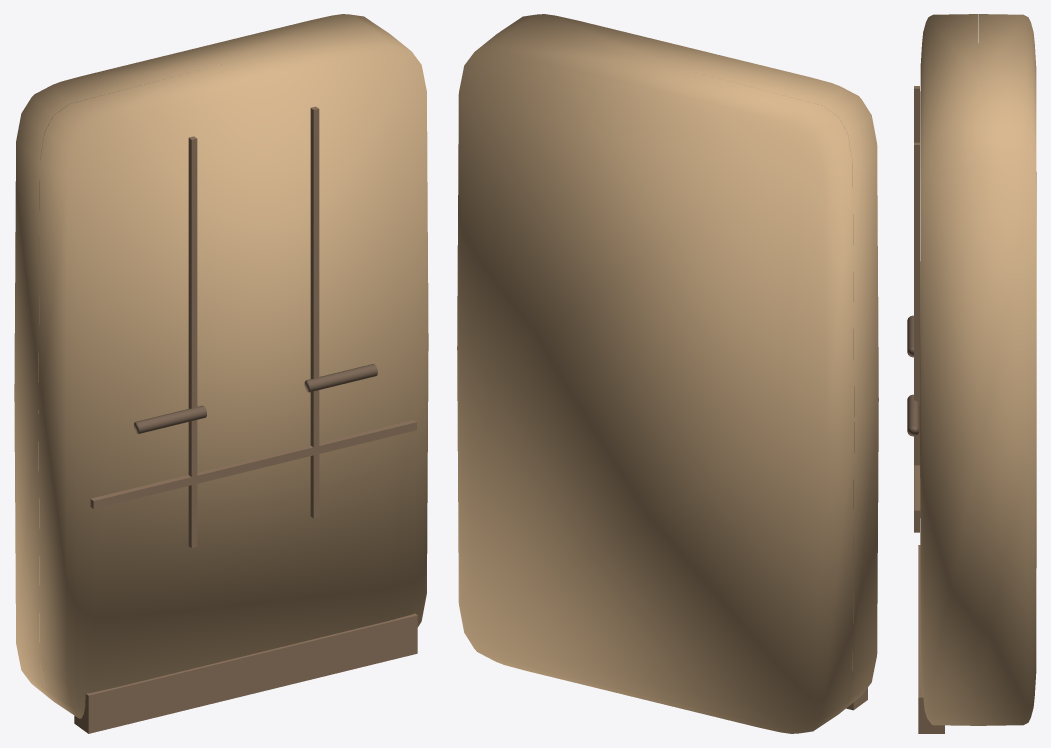
Rendered from shoe_cabinet_1200x350.glb.
3 renders of one model, left to right at view 1: azimuth 30°, elevation 25°; view 2: azimuth 150°, elevation 25°; view 3: azimuth 270°, elevation 25°, orthographic. The views are drawn at different scales.
Parts seen in each view (by area): view 1: shoe_cabinet_body, toe_kick, vertical_door_gap (×2), middle_drawer_line, short_handle (×2); view 2: shoe_cabinet_body; view 3: shoe_cabinet_body, vertical_door_gap (×2), toe_kick, short_handle (×2), middle_drawer_line.
Boxes of the visible parts, box(x1,y1,x2,y2) form: shoe_cabinet_body: box(14, 14, 428, 718); toe_kick: box(74, 613, 417, 733); vertical_door_gap (×2): box(188, 106, 319, 547); middle_drawer_line: box(90, 420, 416, 508); short_handle (×2): box(133, 364, 377, 433); shoe_cabinet_body: box(457, 14, 878, 733); shoe_cabinet_body: box(920, 14, 1036, 725); vertical_door_gap (×2): box(914, 86, 919, 532); toe_kick: box(918, 545, 944, 733); short_handle (×2): box(907, 315, 919, 436); middle_drawer_line: box(914, 465, 920, 518).
Size of the model in its own units: 1.2 by 1.9 by 0.3876.
